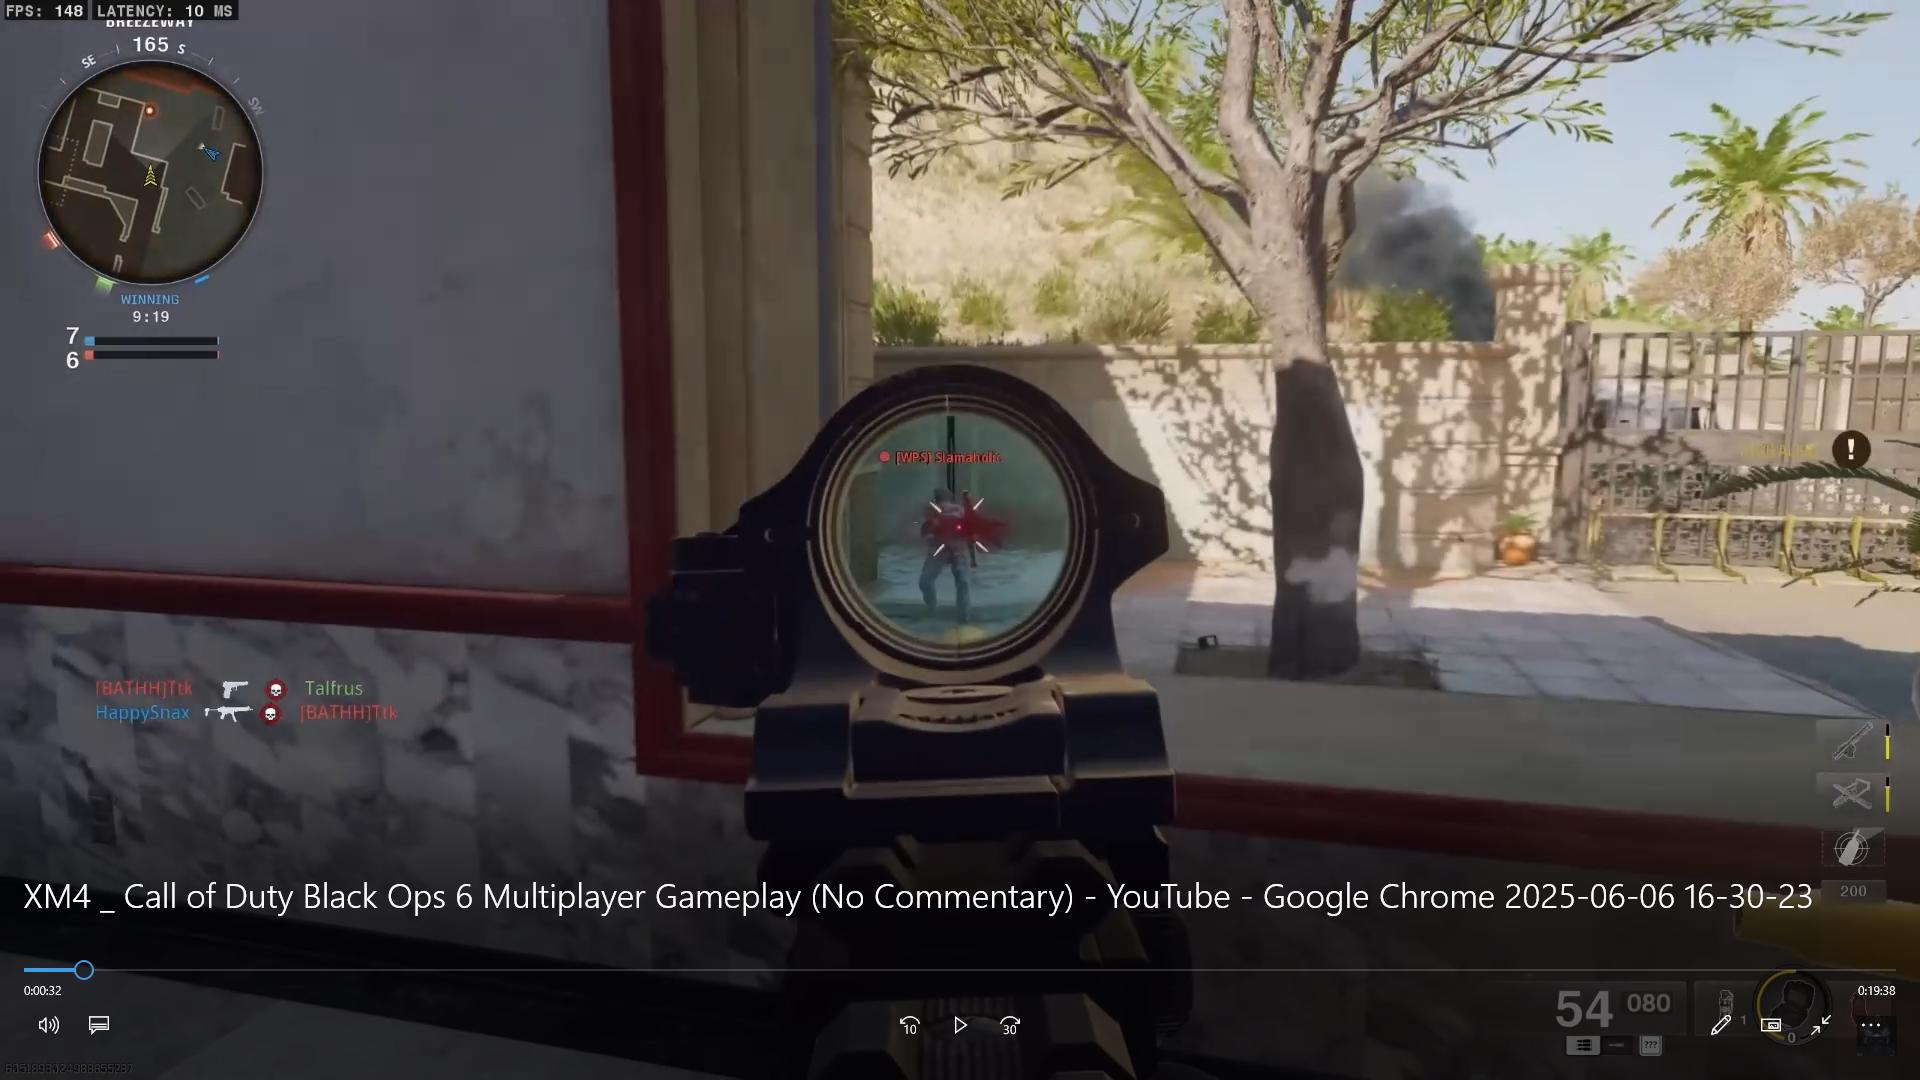Enemy: (907, 476, 988, 621)
